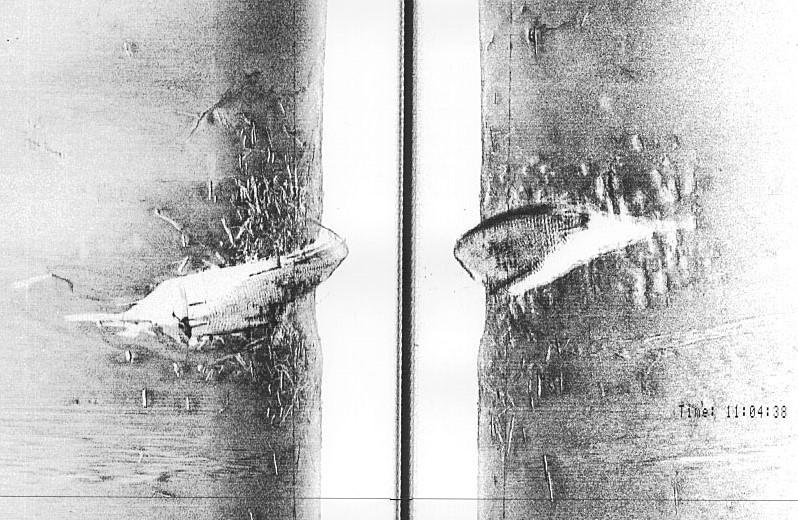ship: (62, 219, 351, 350), (453, 197, 695, 298)
